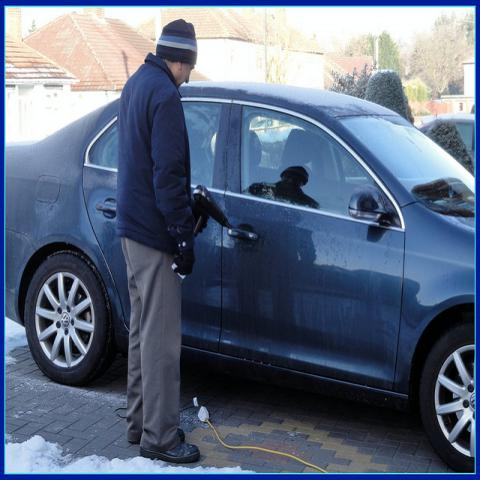car: (5, 80, 475, 473), (422, 115, 477, 173)
